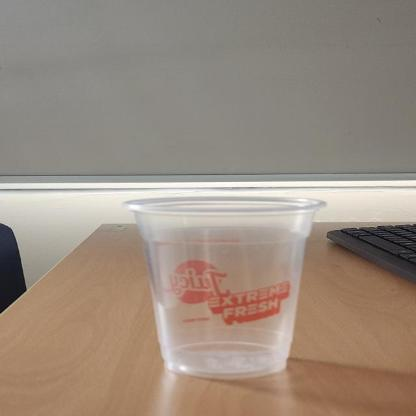Plastic Cup: (118, 196, 330, 378)
